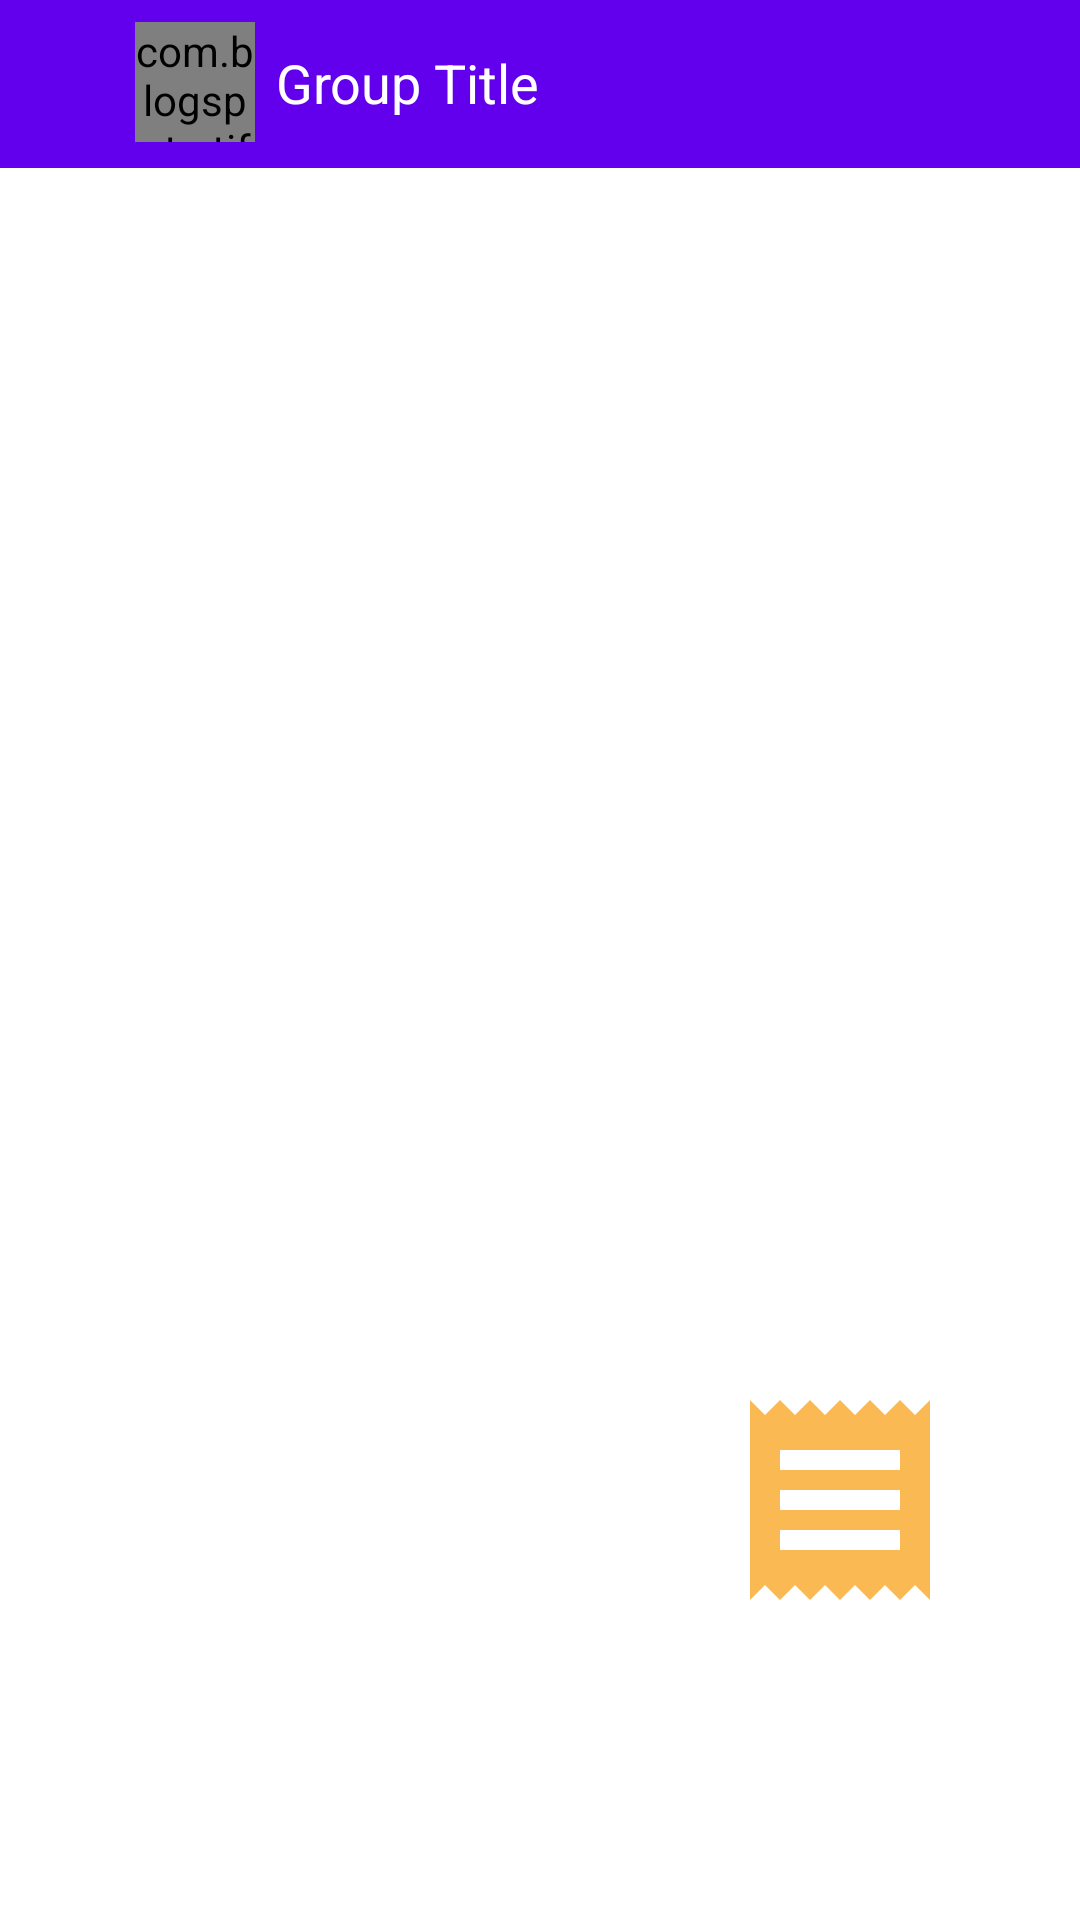

Named icons in this screenshot (1080px x 1920px) and their bounding boxes, (x1, y1, x2, y2):
receipt: (750, 1400, 930, 1600)
